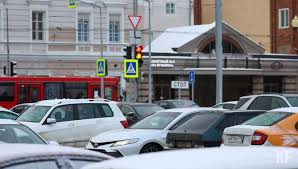tl: (135, 46, 143, 69), (121, 45, 132, 59)
